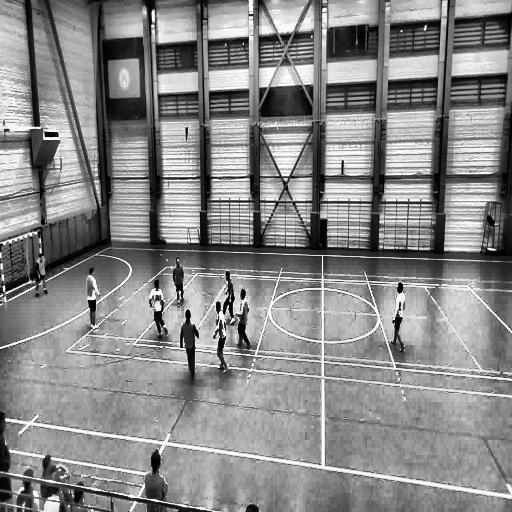player: (144, 449, 168, 512), (180, 308, 199, 386), (0, 407, 14, 511), (40, 453, 72, 498), (214, 298, 232, 372), (148, 277, 168, 340), (219, 269, 237, 329), (390, 283, 405, 353), (85, 267, 101, 329), (236, 288, 251, 350), (35, 251, 49, 297), (173, 258, 184, 306)
